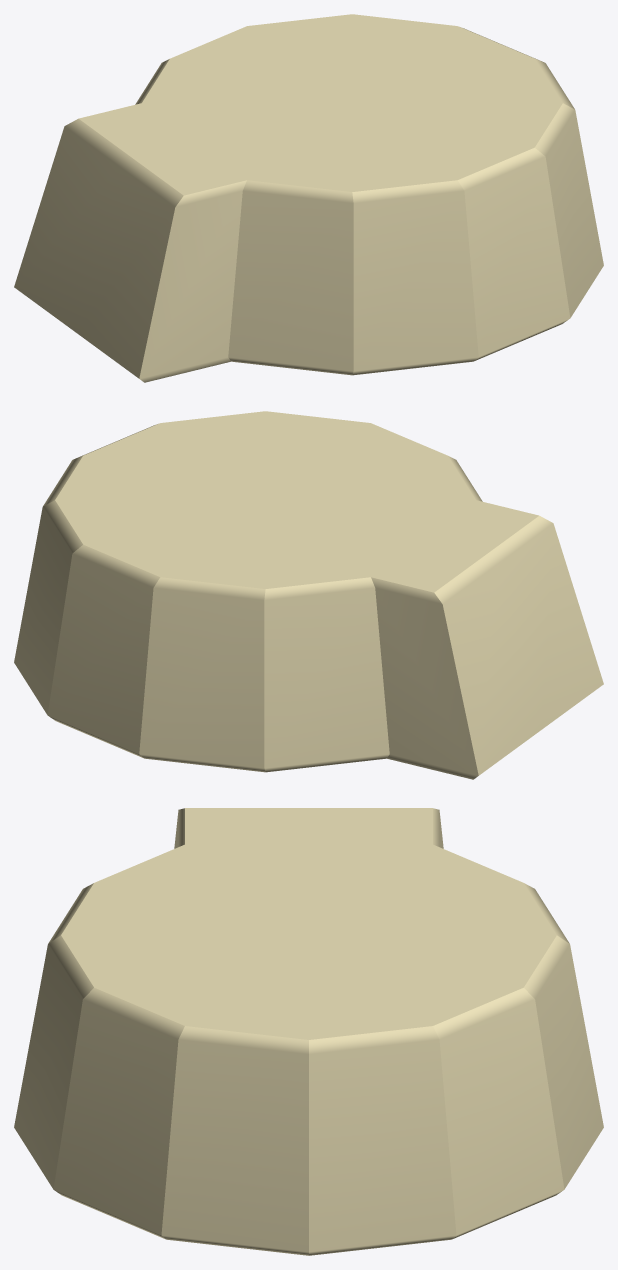
The model's file is Lever_Flag_Base.fbx.
3 views of the same model, one above another, from view 1: azimuth 30°, elevation 25°; view 2: azimuth 150°, elevation 25°; view 3: azimuth 270°, elevation 25° (orthographic). The views are drawn at different scales.
Parts seen in each view (by area): view 1: Lever_Flag_Base; view 2: Lever_Flag_Base; view 3: Lever_Flag_Base.
Boxes of the visible parts, box(x1,y1,x2,y2) form: Lever_Flag_Base: box(14, 14, 603, 382); Lever_Flag_Base: box(14, 411, 603, 779); Lever_Flag_Base: box(14, 808, 603, 1255).
Size of the model in its own units: 9.4 by 3.09 by 8.26.
